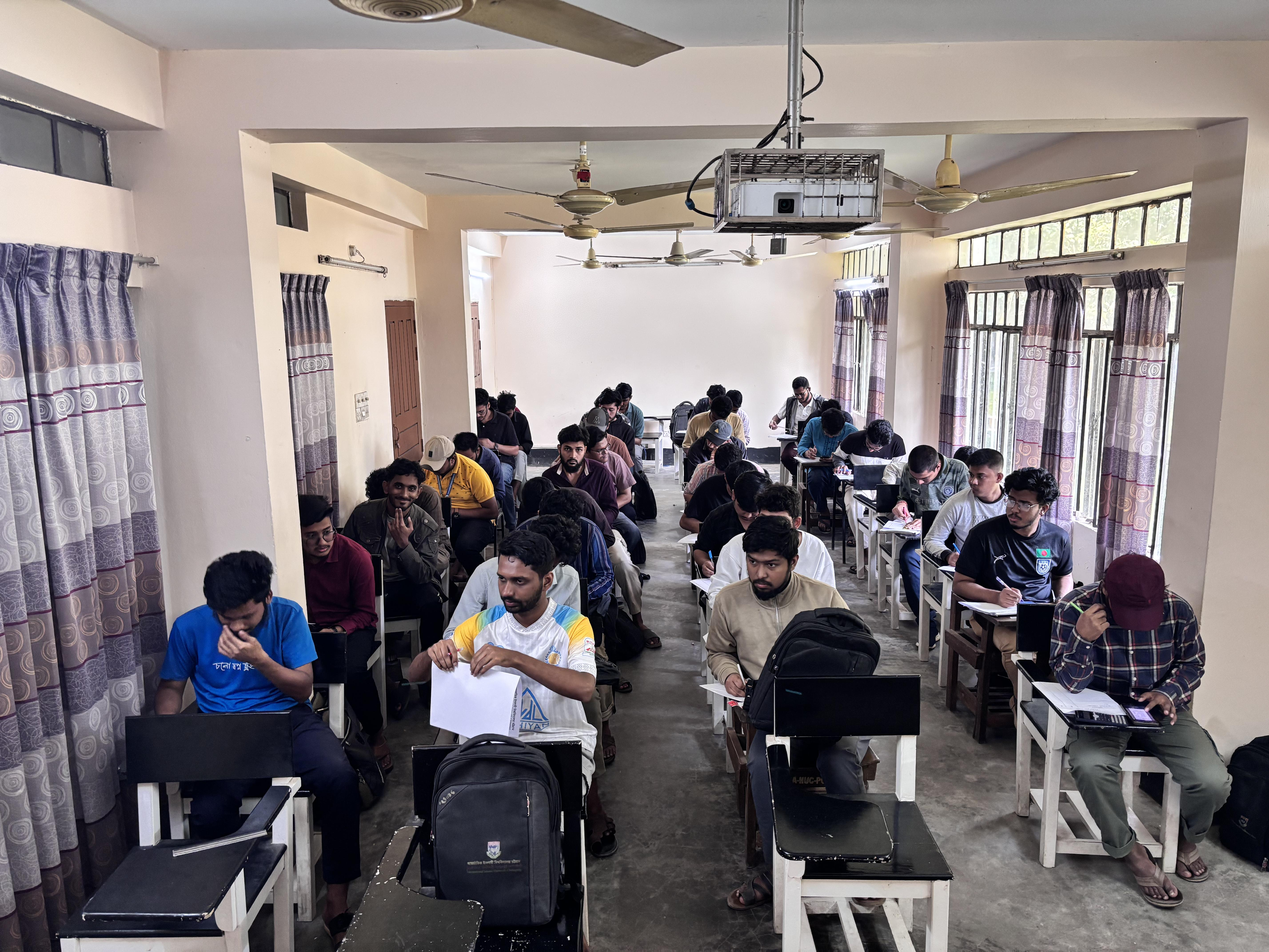copying: (585, 426, 629, 476)
hidden_communication: (699, 417, 749, 454)
no_cheating: (421, 536, 575, 764), (148, 540, 309, 756), (710, 520, 832, 724), (965, 467, 1070, 627), (352, 454, 433, 572), (889, 444, 964, 542), (418, 436, 491, 523), (833, 422, 906, 490), (764, 367, 818, 442), (954, 446, 1004, 517), (551, 420, 595, 500), (796, 408, 851, 471), (469, 383, 511, 439), (723, 470, 765, 524), (593, 384, 629, 429)
suspicious_moving: (287, 494, 370, 633)
using_phone: (1055, 546, 1196, 741)
